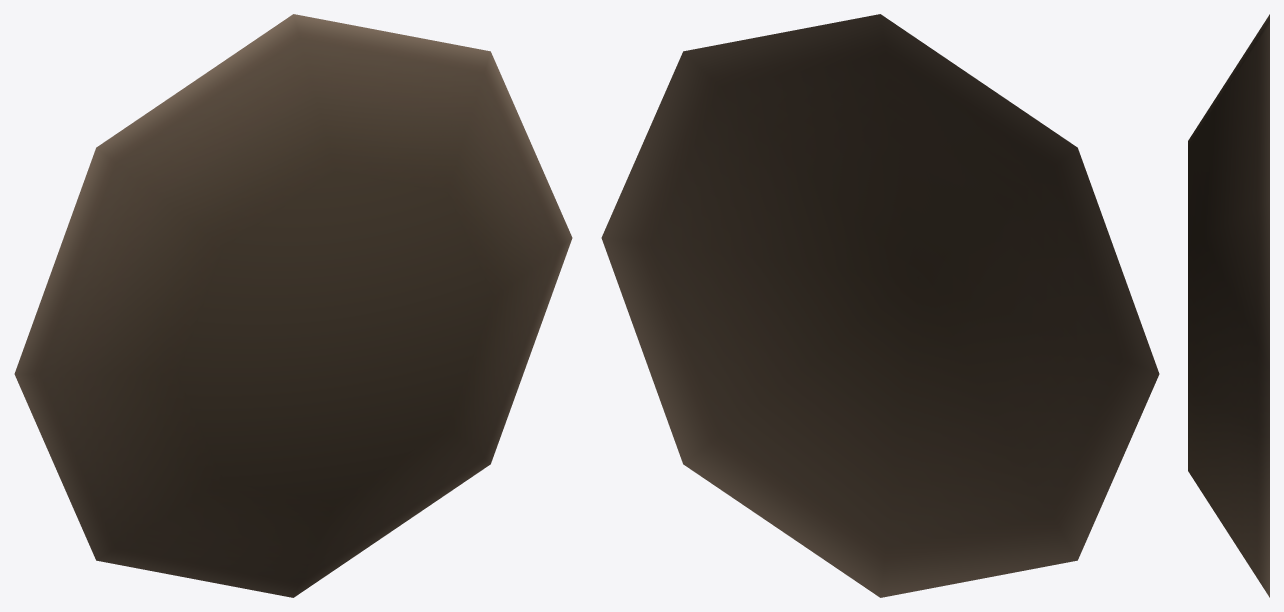
File: Plate_A.fbx
3 views of the same model, side by side, from view 1: azimuth 30°, elevation 25°; view 2: azimuth 150°, elevation 25°; view 3: azimuth 270°, elevation 25° (orthographic). The views are drawn at different scales.
Parts seen in each view (by area): view 1: Plate_A; view 2: Plate_A; view 3: Plate_A.
Boxes of the visible parts, x1,y1,x2,y2 form: Plate_A: [14, 14, 572, 597]; Plate_A: [601, 14, 1159, 597]; Plate_A: [1188, 14, 1269, 597].
Size of the model in its own units: 0.6229 by 0.6229 by 0.082.
